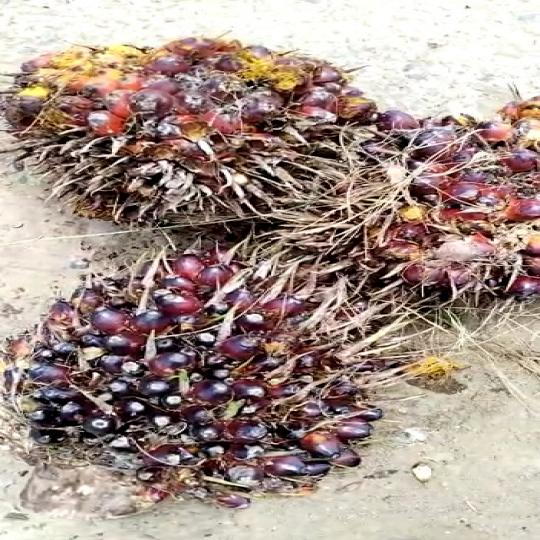masak: (8, 240, 425, 505), (0, 29, 390, 239)
